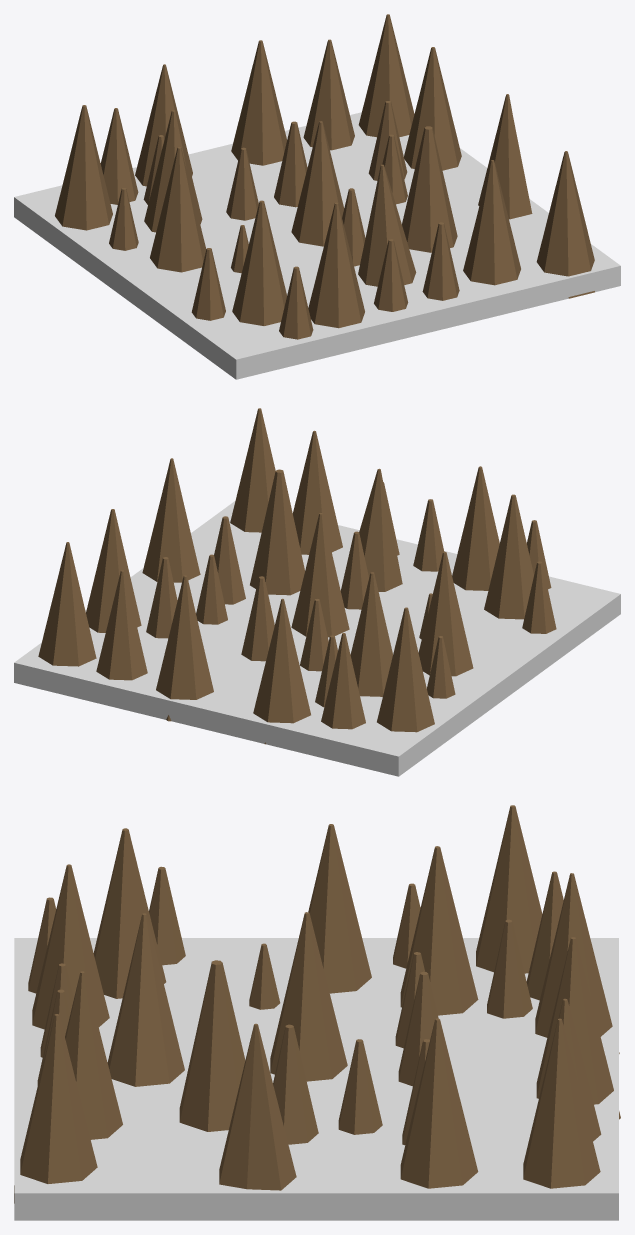
File: Trap_01.fbx
The picture shows the model from 3 angles, top to bottom: view 1: azimuth 30°, elevation 25°; view 2: azimuth 150°, elevation 25°; view 3: azimuth 270°, elevation 25°; orthographic projection. The views are drawn at different scales.
Parts seen in each view (by area): view 1: Trap_01; view 2: Trap_01; view 3: Trap_01.
Part boxes in pixels (x1,y1,x2,y2): Trap_01: [14, 14, 620, 379]; Trap_01: [14, 408, 620, 776]; Trap_01: [14, 805, 620, 1220].
Size of the model in its own units: 200 by 65.69 by 201.
